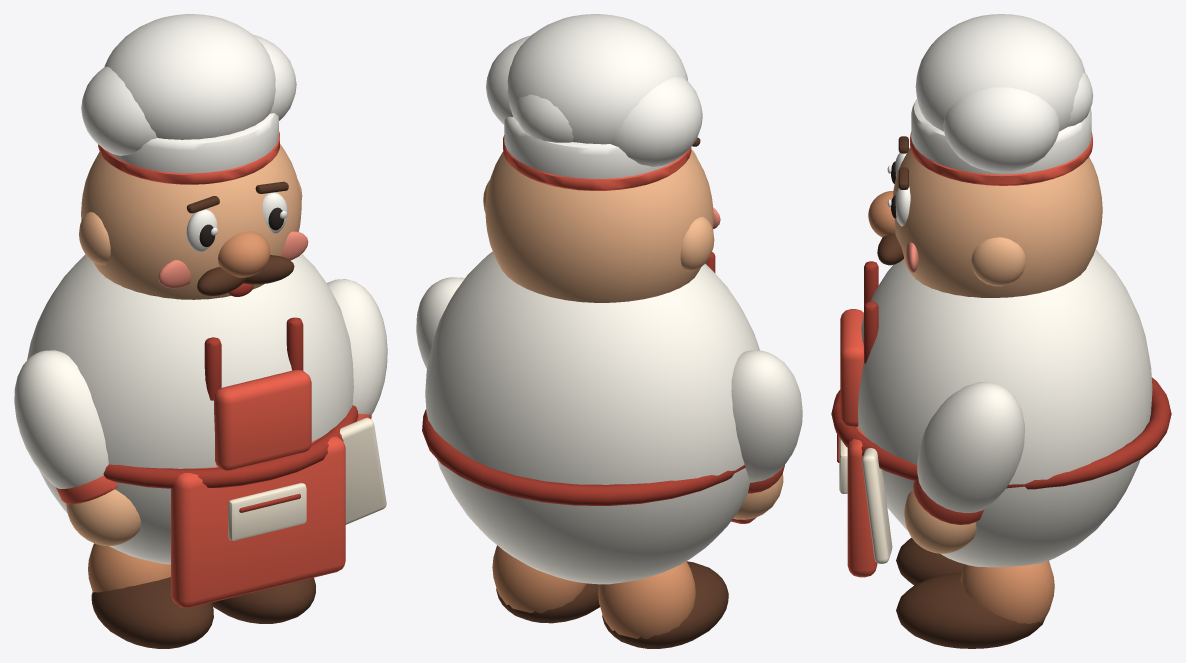
File: chef.glb
3 renders of one model, left to right at view 1: azimuth 30°, elevation 25°; view 2: azimuth 150°, elevation 25°; view 3: azimuth 270°, elevation 25°, orthographic. The views are drawn at different scales.
Parts seen in each view (by area): view 1: ChefBody, ChefApronSkirt, ChefHead, ChefHatPuffA, ChefArmL, ChefApronBib, ChefShoeL, ChefHatBand, ChefArmR, ChefApronTie, ChefHatPuffB, ChefTowel (+15 smaller); view 2: ChefBody, ChefHead, ChefHatPuffA, ChefArmL, ChefApronTie, ChefHatPuffB, ChefLegL, ChefHatBand, ChefLegR, ChefShoeL, ChefHatAccent, ChefHatPuffD (+4 smaller); view 3: ChefBody, ChefHead, ChefArmR, ChefHatPuffA, ChefHatPuffC, ChefShoeR, ChefApronTie, ChefLegR, ChefHatBand, ChefApronSkirt, ChefApronBib, ChefHatAccent (+9 smaller).
Boxes of the visible parts, box(x1,y1,x2,y2) form: ChefBody: box(27, 254, 353, 564); ChefApronSkirt: box(171, 436, 345, 608); ChefHead: box(81, 144, 301, 299); ChefHatPuffA: box(104, 14, 275, 139); ChefArmL: box(14, 350, 140, 545); ChefApronBib: box(214, 370, 311, 470); ChefShoeL: box(91, 577, 213, 648); ChefHatBand: box(108, 113, 278, 173); ChefArmR: box(326, 279, 387, 421); ChefApronTie: box(103, 405, 358, 488); ChefHatPuffB: box(81, 66, 156, 155); ChefTowel: box(340, 417, 386, 524); ChefBody: box(425, 251, 759, 584); ChefHead: box(485, 149, 713, 302); ChefHatPuffA: box(507, 14, 687, 144); ChefArmL: box(731, 350, 802, 519); ChefApronTie: box(422, 409, 745, 505); ChefHatPuffB: box(611, 76, 702, 166); ChefLegL: box(598, 561, 695, 638); ChefHatBand: box(504, 116, 677, 178); ChefLegR: box(492, 545, 586, 613); ChefShoeL: box(602, 561, 728, 648); ChefHatAccent: box(503, 135, 691, 190); ChefHatPuffD: box(515, 94, 573, 142); ChefBody: box(858, 249, 1152, 567); ChefHead: box(893, 147, 1102, 297); ChefArmR: box(904, 382, 1024, 553); ChefHatPuffA: box(915, 14, 1085, 131); ChefHatPuffC: box(943, 87, 1059, 172); ChefShoeR: box(896, 572, 1044, 648); ChefApronTie: box(831, 377, 1171, 489); ChefLegR: box(960, 561, 1054, 623); ChefHatBand: box(911, 98, 1091, 174); ChefApronSkirt: box(847, 427, 877, 577); ChefApronBib: box(840, 309, 863, 426); ChefHatAccent: box(910, 132, 1092, 185).
Bounding box in the file's own units: 1.4 × 2.21 × 1.15.
